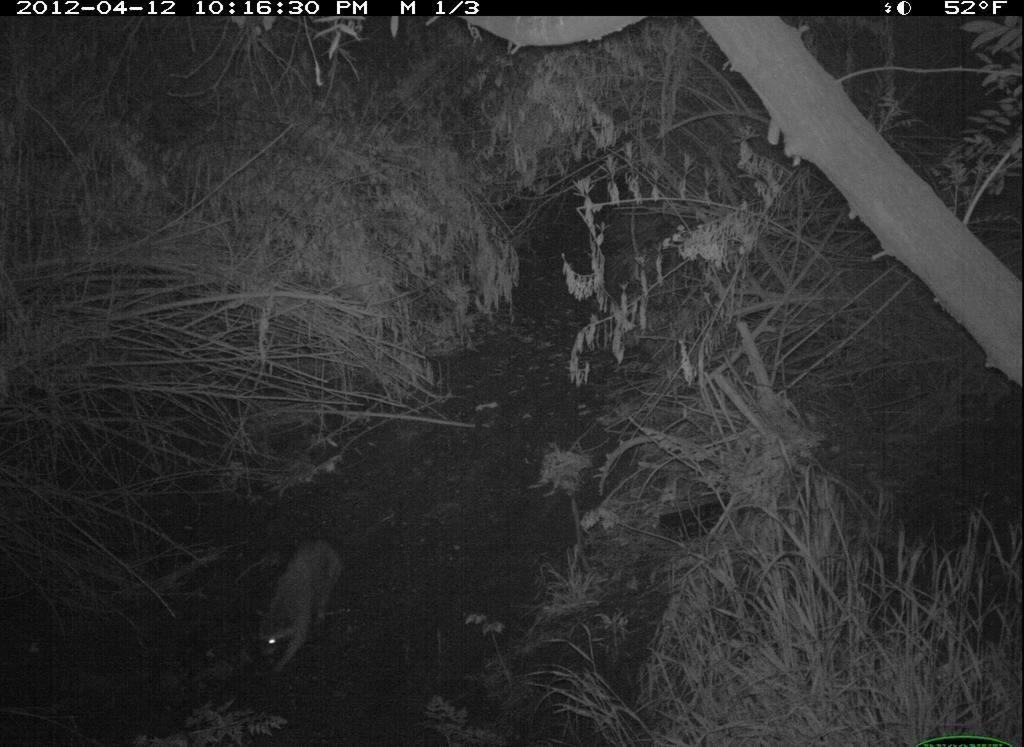raccoon: (237, 520, 353, 687)
